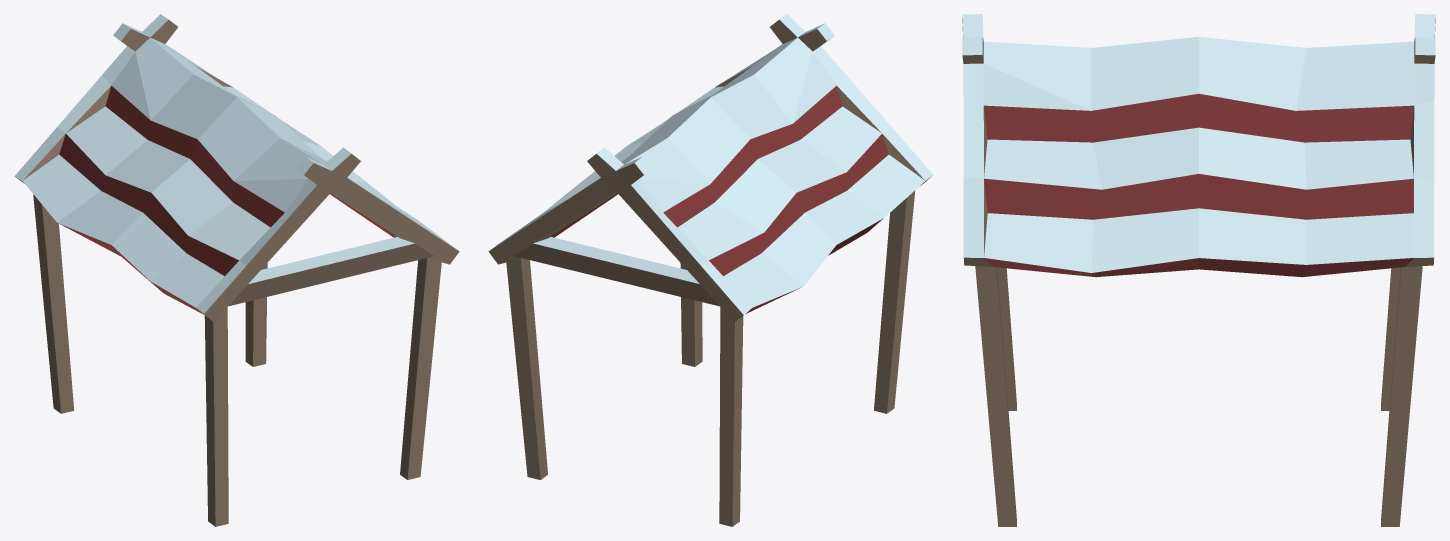
File: SM_Bld_Viking_Hut_02_Snow.fbx
3 views of the same model, side by side, from view 1: azimuth 30°, elevation 25°; view 2: azimuth 150°, elevation 25°; view 3: azimuth 270°, elevation 25° (orthographic). The views are drawn at different scales.
Visible parts, largest first — view 1: SM_Bld_Viking_Hut_02_Snow; view 2: SM_Bld_Viking_Hut_02_Snow; view 3: SM_Bld_Viking_Hut_02_Snow.
Boxes of the visible parts, left/top/right/bottom form: SM_Bld_Viking_Hut_02_Snow: left=14, top=14, right=459, bottom=526; SM_Bld_Viking_Hut_02_Snow: left=488, top=14, right=933, bottom=526; SM_Bld_Viking_Hut_02_Snow: left=962, top=14, right=1435, bottom=526.
Bounding box in the file's own units: 104 × 129 × 126.
1 material, 1 textured.
